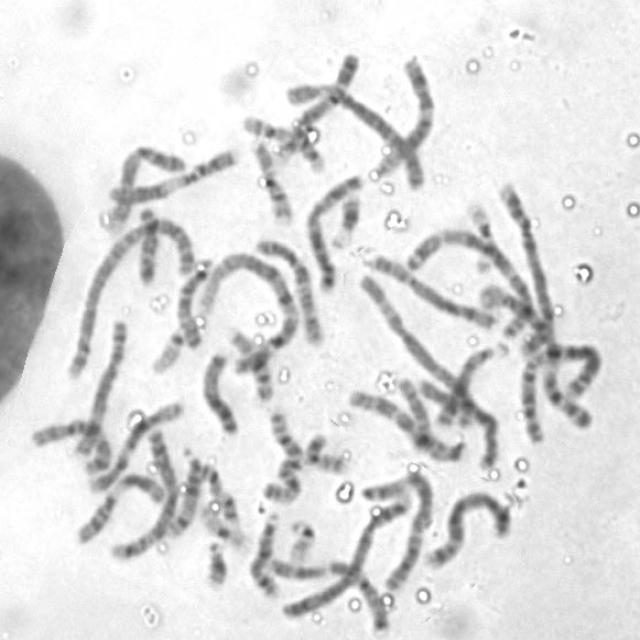A1: (473, 274, 597, 433), (194, 244, 303, 382)
A2: (59, 208, 198, 383), (514, 343, 607, 442)
A3: (401, 227, 545, 343), (380, 465, 436, 592)
B4: (276, 484, 416, 624), (494, 182, 558, 357)
B5: (106, 420, 182, 563), (421, 484, 516, 572)
C10: (249, 230, 327, 348), (26, 413, 114, 476)
C11: (106, 142, 241, 215), (71, 466, 165, 546)
C12: (84, 393, 187, 497), (369, 48, 438, 184)
C6: (355, 266, 478, 433), (281, 75, 429, 192)
C7: (264, 552, 394, 636), (345, 384, 470, 463)
C8: (362, 247, 504, 331), (69, 315, 130, 460)
C9: (271, 44, 363, 164), (102, 139, 190, 233)
D13: (429, 336, 511, 430), (198, 344, 242, 436)
D14: (163, 444, 205, 538), (245, 505, 283, 599)
D15: (257, 404, 305, 506), (172, 251, 214, 350)
E16: (222, 322, 276, 404), (248, 135, 296, 227)
E17: (237, 109, 328, 173), (196, 458, 241, 526)
E18: (391, 372, 432, 451), (133, 201, 160, 287)
F19: (462, 195, 496, 275), (196, 501, 248, 549)
F20: (301, 427, 350, 476), (263, 404, 304, 461)
G21: (326, 188, 364, 250), (200, 533, 230, 591)
G22: (146, 322, 188, 376), (283, 513, 320, 565)
X: (411, 374, 503, 471), (300, 171, 364, 295)
